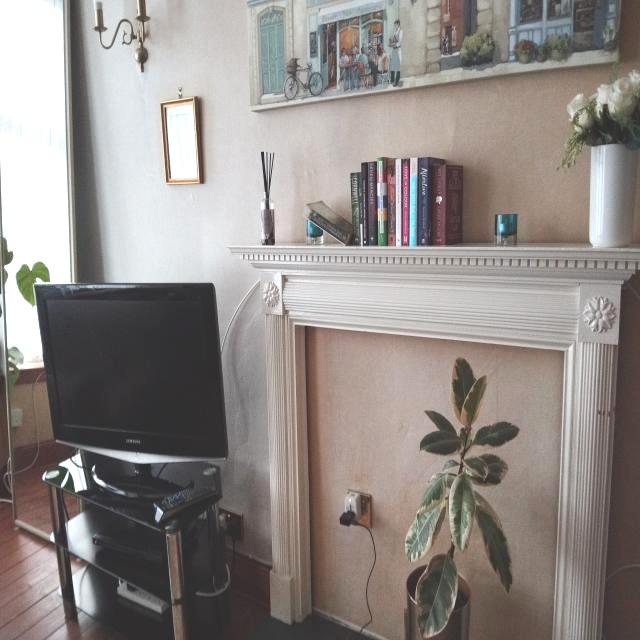book: (351, 158, 463, 247)
lamp: (93, 0, 151, 72)
monitor: (33, 283, 228, 497)
pillow: (233, 245, 640, 287)
stove: (42, 454, 230, 640)
